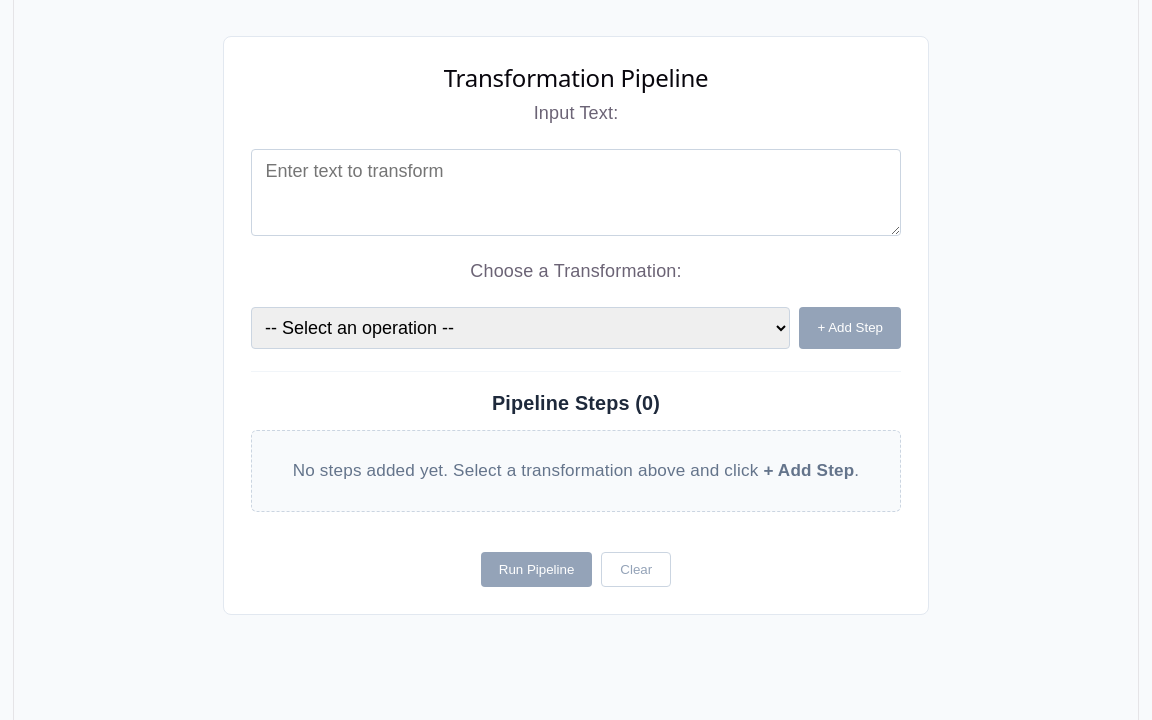
it: TransformationPipeline › running the pipeline › shows the backend's error message instead of the HTTP status text
Type "banana" into the text box with id "input-text".
click(576, 192); type("banana")  # box top-left (251, 149), bottom-right (901, 236)
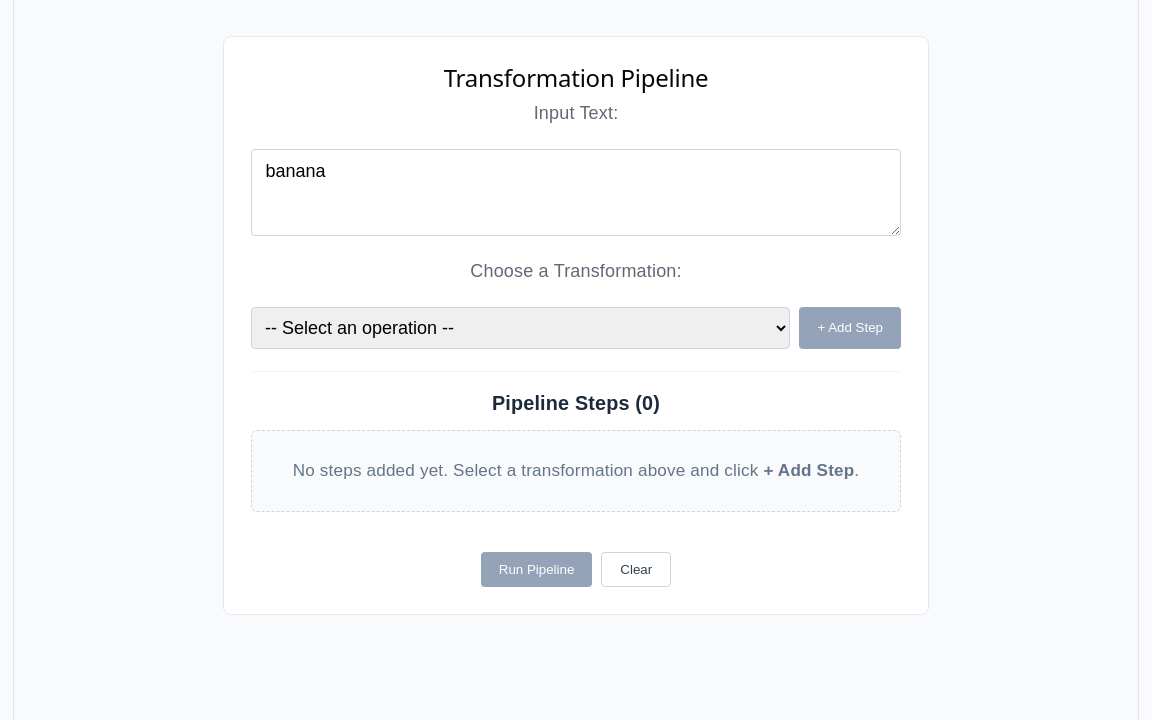
Select "Uppercase" in the dropdown labelled "Choose a Transformation:" at (521, 328), box top-left (251, 307), bottom-right (790, 349)
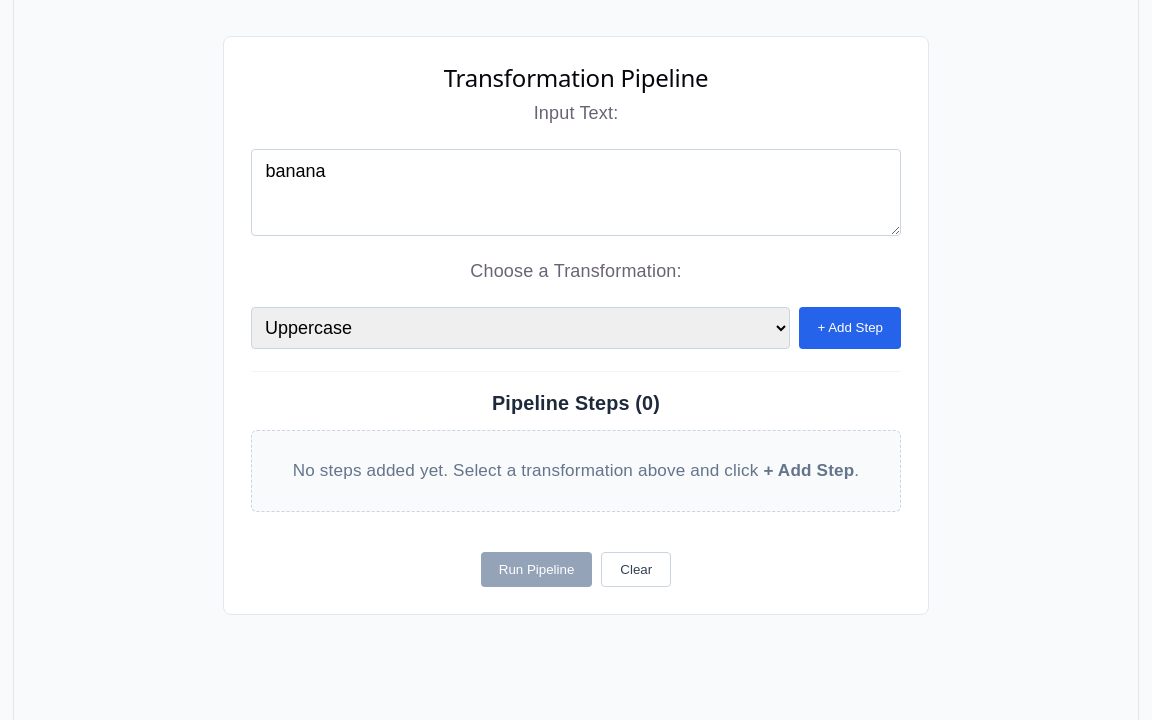
Click the button "+ Add Step".
click(850, 328)  # box top-left (799, 307), bottom-right (901, 349)
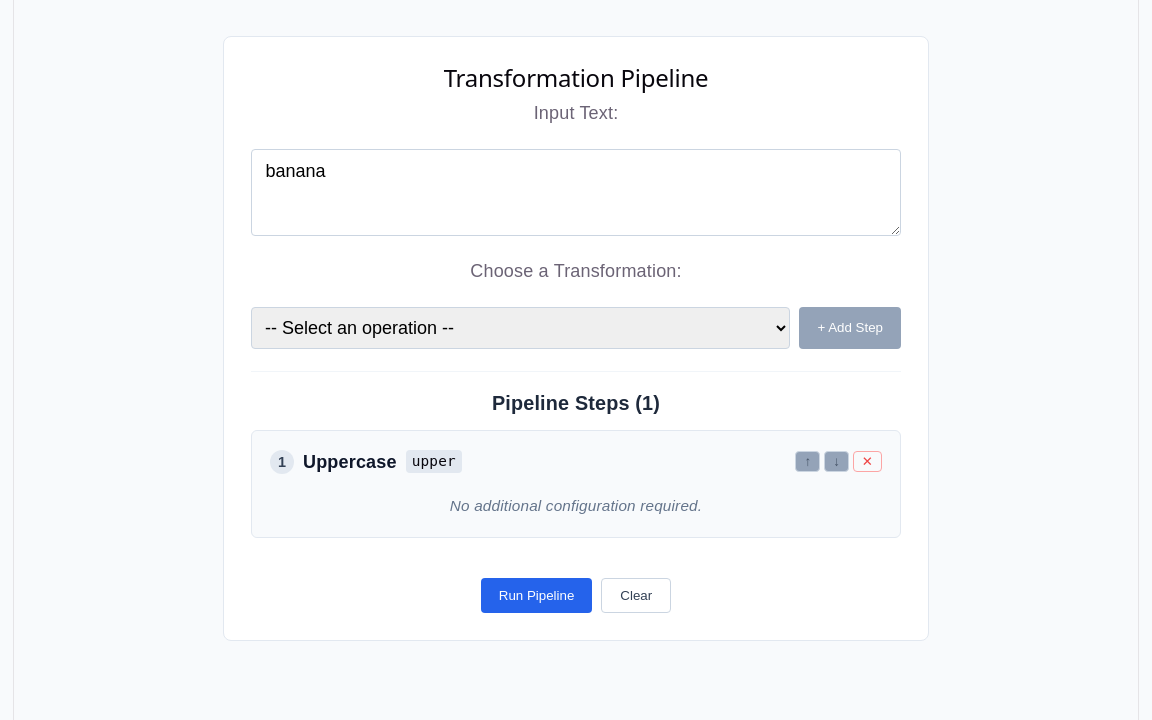
Click the button "Run Pipeline".
click(537, 596)  # box top-left (481, 578), bottom-right (592, 613)
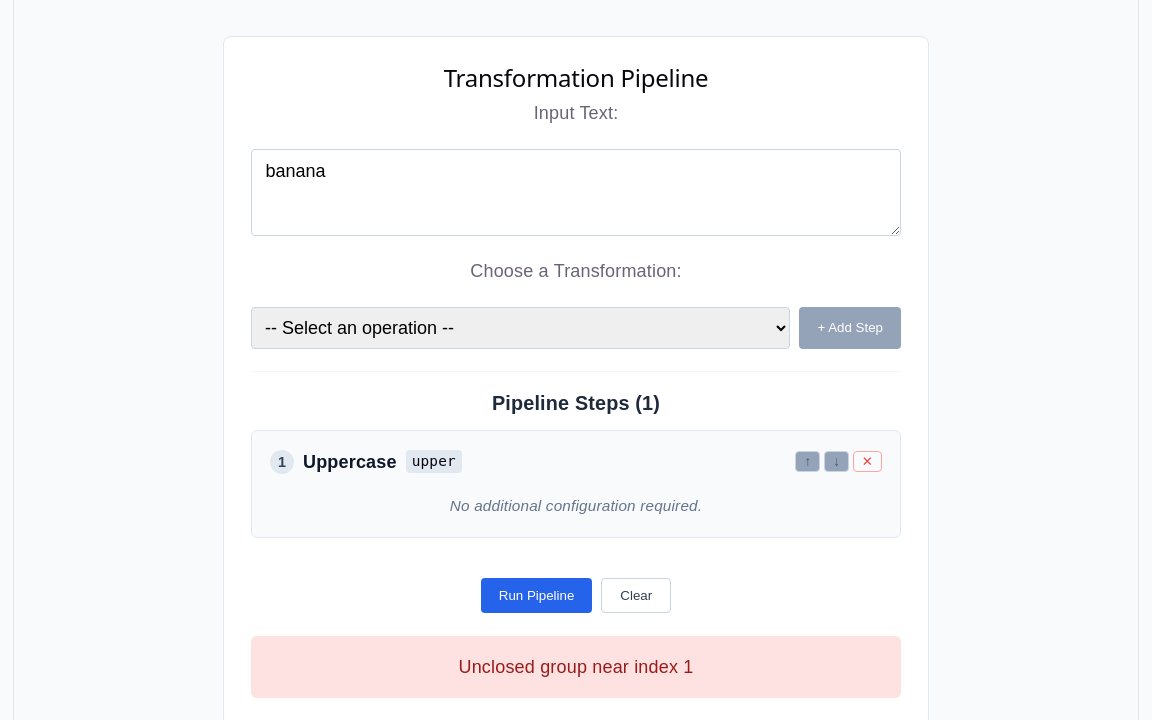
Now the message with class "run-error" reads "Unclosed group near index 1", box top-left (458, 657), bottom-right (694, 677)
